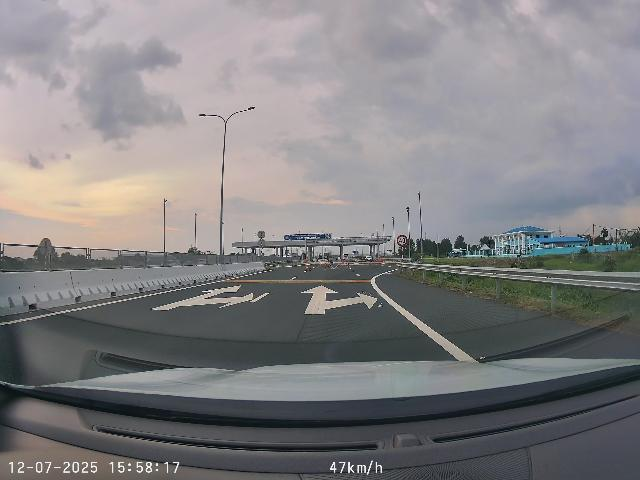127-toc-do-toi-da-40: (396, 235, 408, 246)
